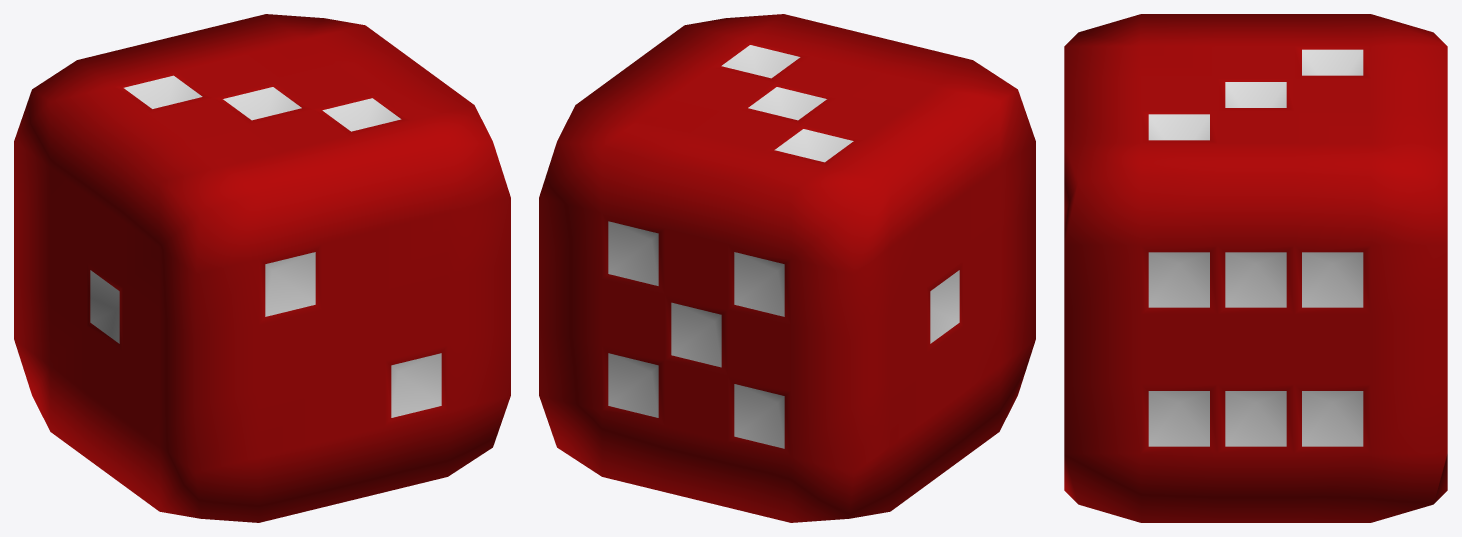
The model's file is dice2.glb.
The picture shows the model from 3 angles, left to right: view 1: azimuth 30°, elevation 25°; view 2: azimuth 150°, elevation 25°; view 3: azimuth 270°, elevation 25°; orthographic projection. The views are drawn at different scales.
Visible parts, largest first — view 1: Cube.001; view 2: Cube.001; view 3: Cube.001.
Part boxes in pixels (left/top/right/bottom): Cube.001: left=14, top=14, right=510, bottom=522; Cube.001: left=539, top=14, right=1035, bottom=522; Cube.001: left=1064, top=14, right=1447, bottom=522.
Bounding box in the file's own units: 2 × 2 × 2.
